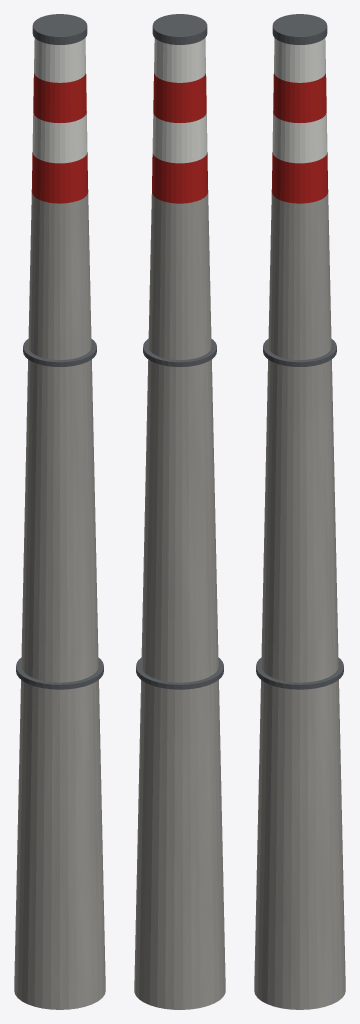
File: pv_komin_vysoky.glb
3 views of the same model, side by side, from view 1: azimuth 90°, elevation 25°; view 2: azimuth 150°, elevation 25°; view 3: azimuth 270°, elevation 25° (orthographic).
Visible parts, largest first — view 1: dum; view 2: dum; view 3: dum.
Boxes of the visible parts, box(x1,y1,x2,y2) form: dum: box(14, 14, 105, 1009); dum: box(134, 14, 225, 1009); dum: box(254, 14, 345, 1009).
Size of the model in its own units: 5.19 by 60.25 by 5.19.
Materials: 1 (1 with a texture image).
